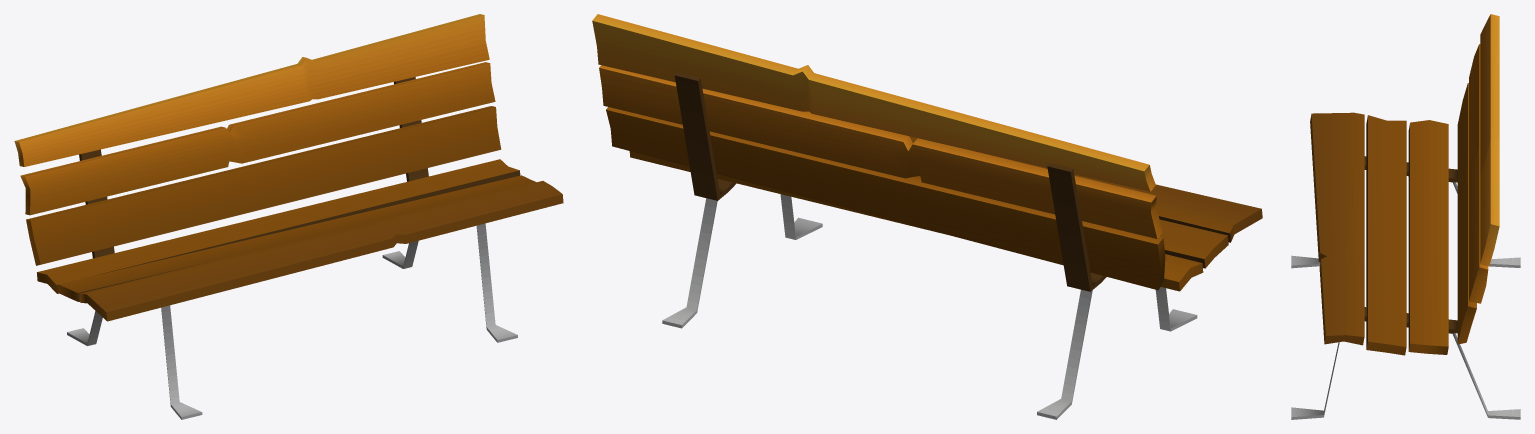
The model's file is SM_ParkBench.fbx.
3 views of the same model, side by side, from view 1: azimuth 30°, elevation 25°; view 2: azimuth 150°, elevation 25°; view 3: azimuth 270°, elevation 25° (orthographic). The views are drawn at different scales.
Parts seen in each view (by area): view 1: SM_Park_Bench; view 2: SM_Park_Bench; view 3: SM_Park_Bench.
Boxes of the visible parts, left/top/right/bottom form: SM_Park_Bench: left=14, top=14, right=563, bottom=419; SM_Park_Bench: left=592, top=14, right=1262, bottom=419; SM_Park_Bench: left=1291, top=14, right=1520, bottom=419.
Bounding box in the file's own units: 179 × 85.08 × 77.08.
1 material, 1 textured.
